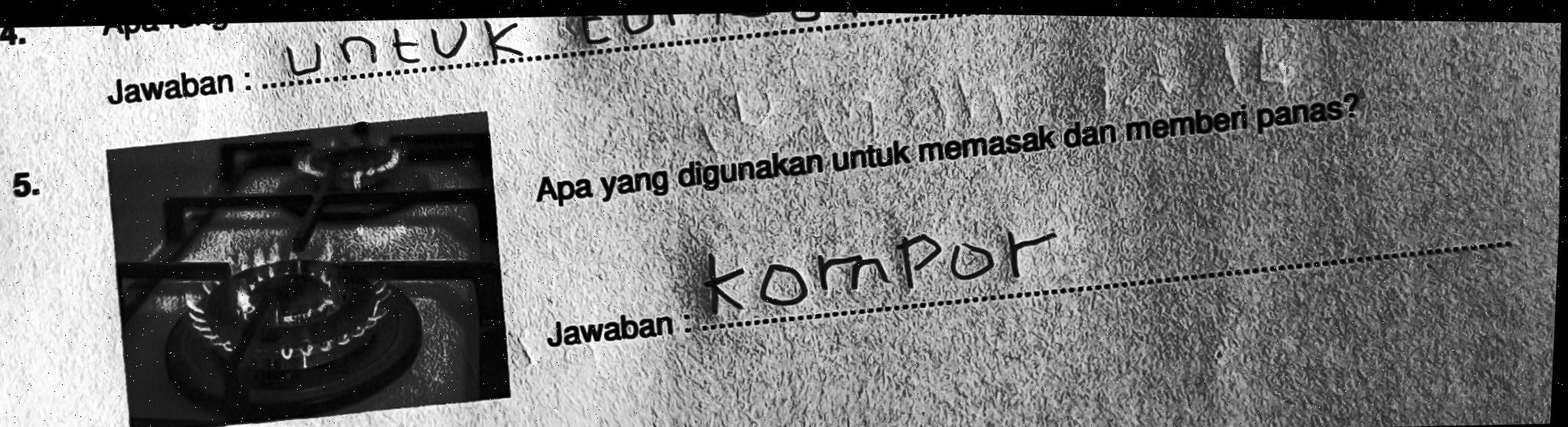jawaban: (695, 208, 1073, 324), (279, 17, 521, 77)
